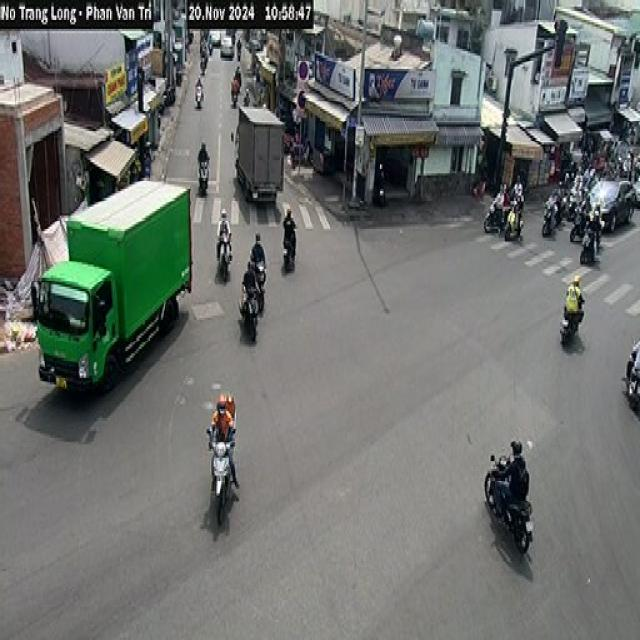motorcycle: (486, 454, 540, 565), (207, 431, 238, 532), (239, 288, 261, 344), (558, 304, 582, 350), (218, 224, 233, 287), (196, 153, 212, 195), (280, 238, 298, 274)
person: (508, 436, 532, 508), (215, 396, 233, 442), (566, 274, 584, 316), (252, 227, 267, 263), (243, 259, 260, 289), (218, 207, 232, 240), (283, 206, 297, 238)
truck: (32, 177, 194, 399), (233, 105, 286, 212)
